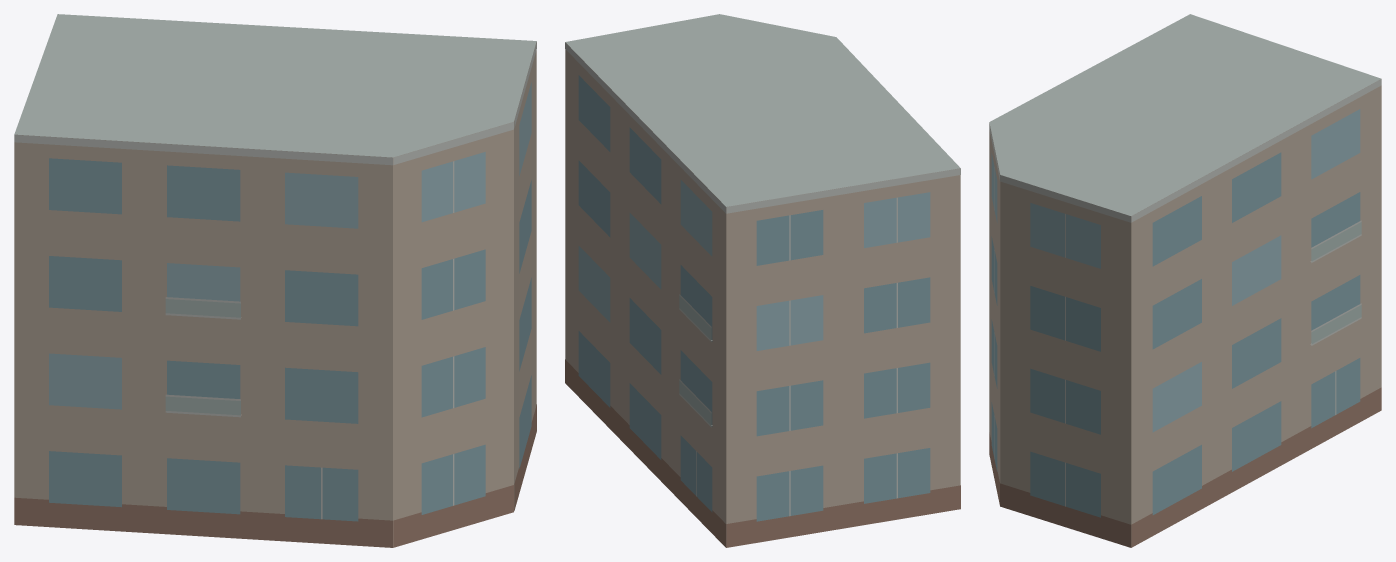
File: survey-upis-32801253.glb
3 renders of one model, left to right at view 1: azimuth 30°, elevation 25°; view 2: azimuth 150°, elevation 25°; view 3: azimuth 270°, elevation 25°, orthographic. The views are drawn at different scales.
Visible parts, largest first — view 1: survey-upis-32801253.tmp; view 2: survey-upis-32801253.tmp; view 3: survey-upis-32801253.tmp.
Boxes of the visible parts, bbox=[...] form: survey-upis-32801253.tmp: bbox=[14, 14, 536, 547]; survey-upis-32801253.tmp: bbox=[565, 14, 960, 547]; survey-upis-32801253.tmp: bbox=[989, 14, 1381, 547].
Size of the model in its own units: 15.96 by 12.2 by 13.09.
